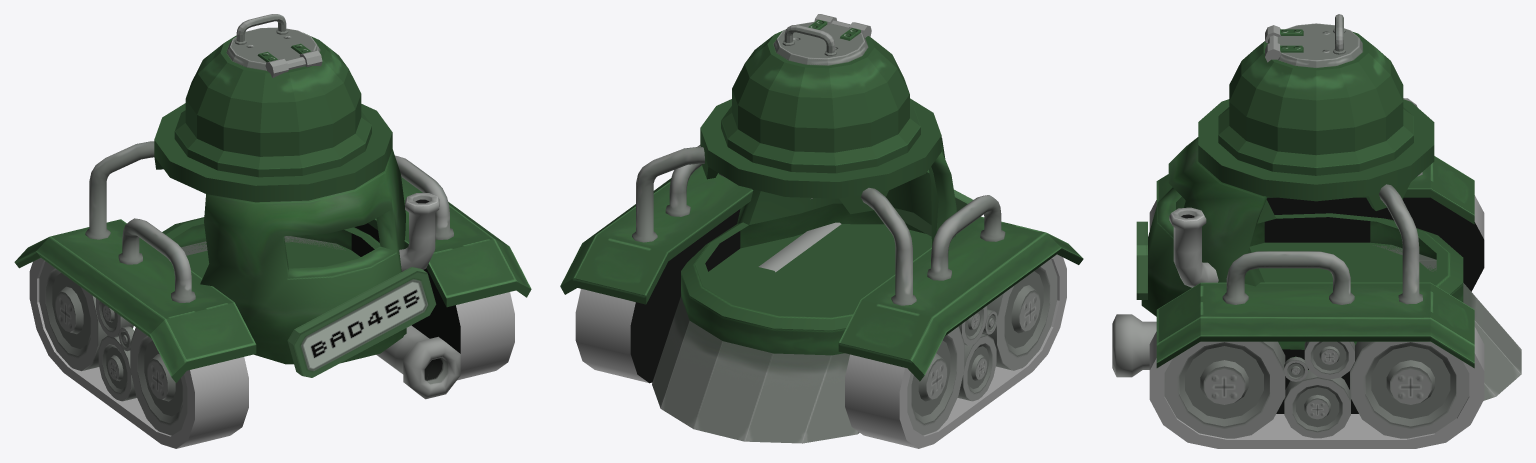
Rendered from Blob Tank.fbx.
3 views of the same model, side by side, from view 1: azimuth 30°, elevation 25°; view 2: azimuth 150°, elevation 25°; view 3: azimuth 270°, elevation 25° (orthographic).
Parts seen in each view (by area): view 1: Tank_Base1, Turret_Base, Tank_Shiny_Parts1, Left_Treads, Wheel_1, Right_Treads, Wheel_2, Wheel_4, Wheel_3; view 2: Tank_Base1, Turret_Base, Tank_Shiny_Parts1, Left_Treads, Wheel_2, Right_Treads, Wheel_1, Wheel_4, Wheel_3; view 3: Tank_Base1, Turret_Base, Tank_Shiny_Parts1, Wheel_7, Wheel_6, Right_Treads, Wheel_9, Wheel_8, Wheel_10, Left_Treads.
Boxes of the visible parts, x1,y1,x2,y2 form: Tank_Base1: [14, 103, 531, 382]; Turret_Base: [174, 14, 371, 177]; Tank_Shiny_Parts1: [85, 141, 460, 399]; Left_Treads: [29, 258, 248, 448]; Wheel_1: [39, 261, 107, 371]; Right_Treads: [456, 292, 514, 380]; Wheel_2: [130, 327, 187, 435]; Wheel_4: [98, 335, 136, 401]; Wheel_3: [96, 298, 133, 337]; Tank_Base1: [560, 98, 1083, 443]; Turret_Base: [721, 14, 920, 173]; Tank_Shiny_Parts1: [632, 145, 1005, 305]; Left_Treads: [845, 254, 1066, 448]; Wheel_2: [982, 259, 1057, 370]; Right_Treads: [575, 289, 648, 382]; Wheel_1: [907, 326, 964, 435]; Wheel_4: [957, 333, 996, 401]; Wheel_3: [959, 306, 987, 345]; Tank_Base1: [1136, 99, 1521, 413]; Turret_Base: [1218, 14, 1413, 175]; Tank_Shiny_Parts1: [1112, 98, 1422, 377]; Wheel_7: [1164, 341, 1285, 438]; Wheel_6: [1350, 341, 1469, 438]; Right_Treads: [1149, 327, 1484, 448]; Wheel_9: [1284, 370, 1350, 438]; Wheel_8: [1304, 341, 1354, 379]; Wheel_10: [1284, 356, 1307, 381]; Left_Treads: [1149, 195, 1484, 239].
Bounding box in the file's own units: 5.18 × 4.73 × 5.03.
